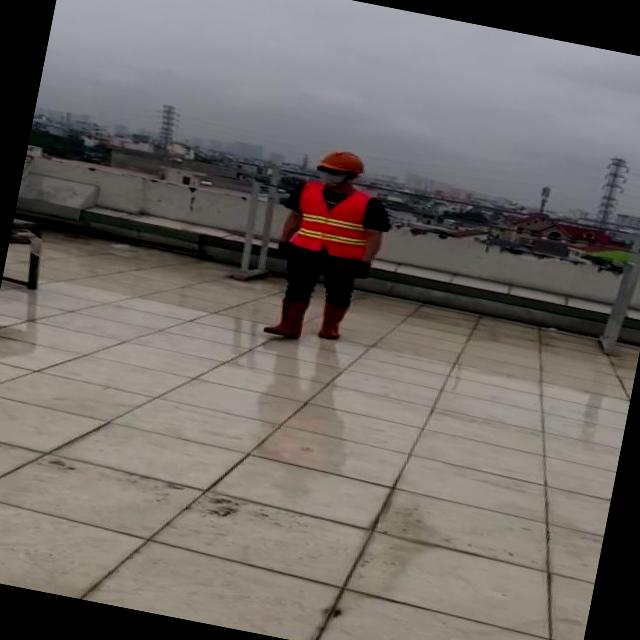boots: (263, 293, 311, 340), (315, 299, 352, 341)
gloves: (275, 234, 297, 264), (348, 257, 373, 282)
helmet: (314, 146, 371, 177)
vest: (288, 180, 374, 261)
